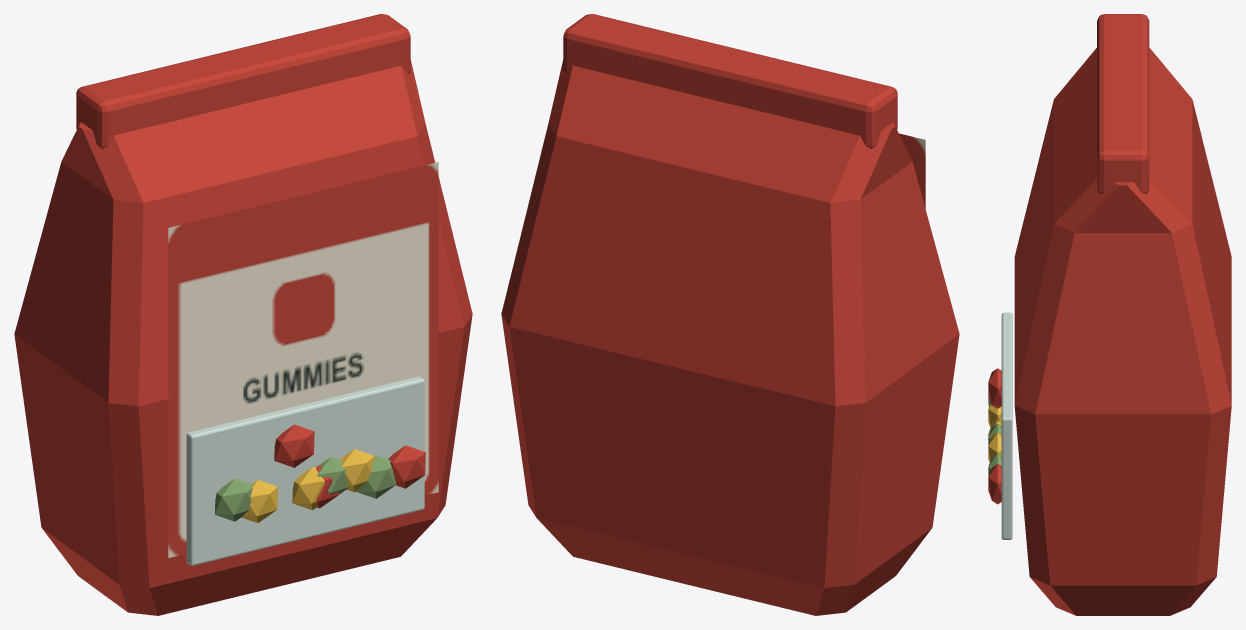
File: gummies.fbx
The picture shows the model from 3 angles, left to right: view 1: azimuth 30°, elevation 25°; view 2: azimuth 150°, elevation 25°; view 3: azimuth 270°, elevation 25°; orthographic projection. The views are drawn at different scales.
Visible parts, largest first — view 1: gummies; view 2: gummies; view 3: gummies.
Part boxes in pixels (box(x1,y1,x2,y2)): gummies: box(14, 14, 472, 615); gummies: box(501, 14, 959, 615); gummies: box(988, 14, 1231, 615).
Bounding box in the file's own units: 21 × 27.67 × 13.01.
